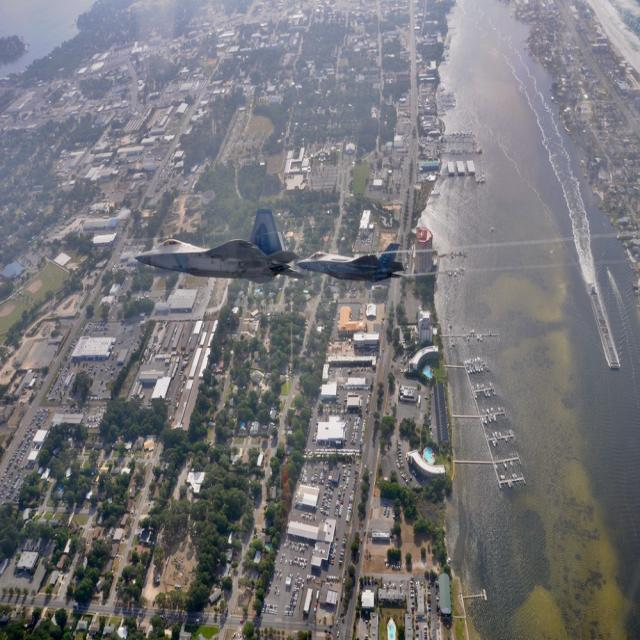MIL_Plane: (134, 208, 306, 284), (315, 242, 386, 283)
